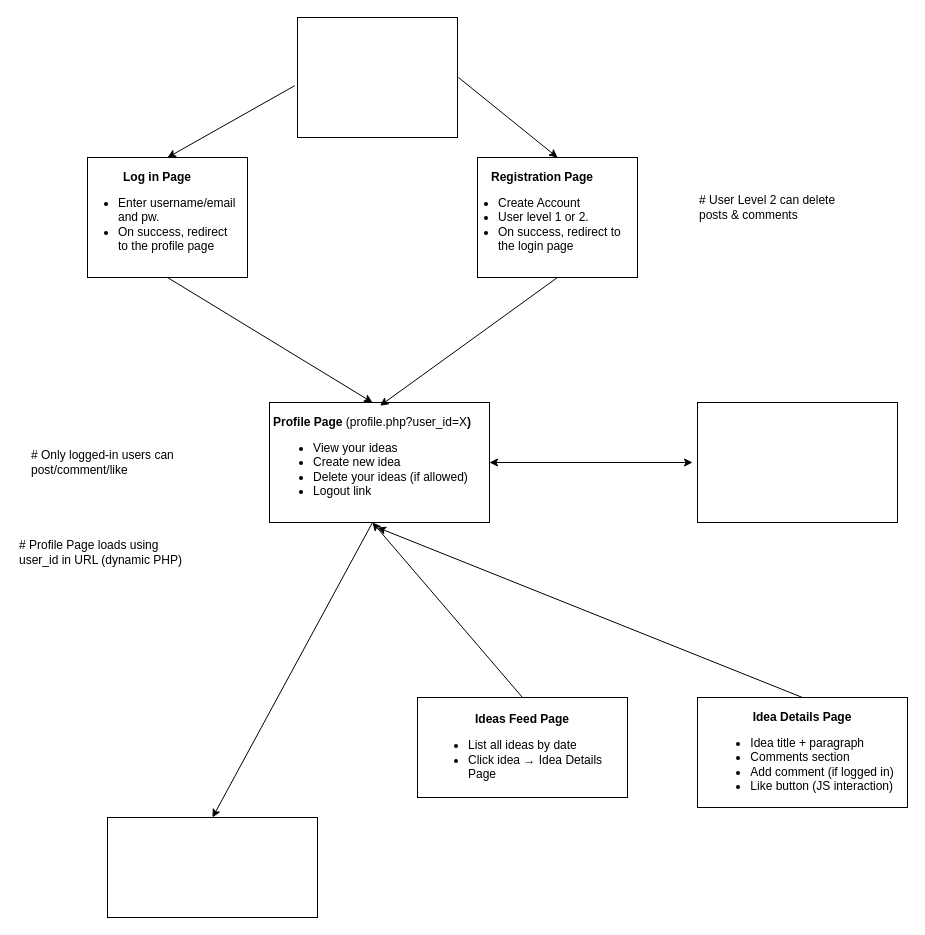
The diagram is 925 pixels wide and 935 high, and some of its shapes have lost their labels. Each missing label, with the centre of its shape:
"Home Page view recent ideas search bar Login/Register links" goes at point (377, 77).
"Logout Page Destroy session Redirect → Home Page" goes at point (212, 867).
"Search results Page Users matching search Click user→ Their profile Page" goes at point (797, 462).
